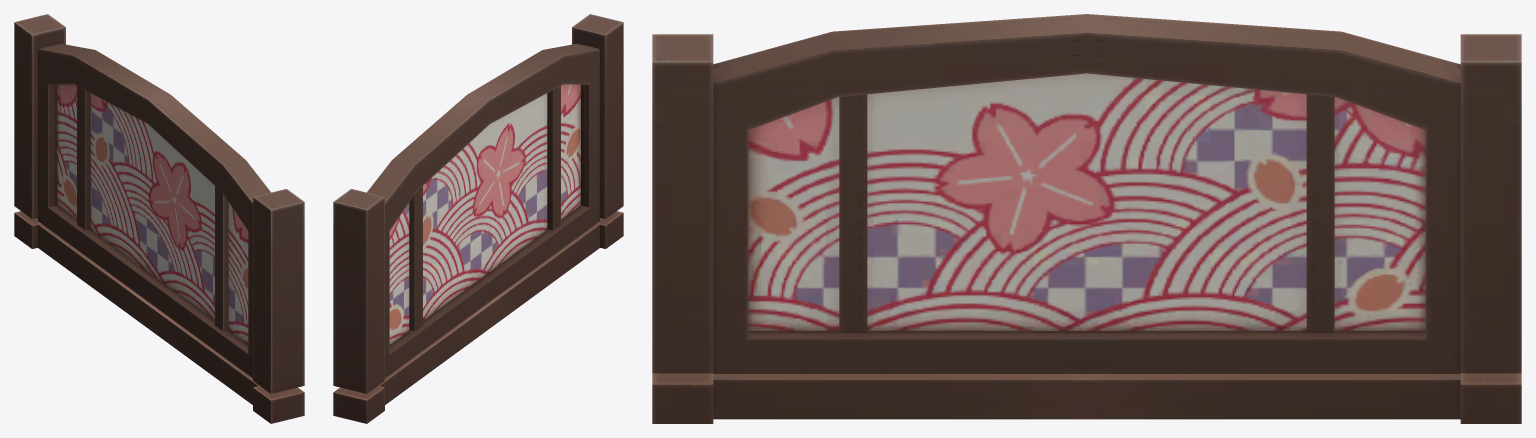
The model's file is my_hyakkiyako_01_partition_01.glb.
3 views of the same model, side by side, from view 1: azimuth 30°, elevation 25°; view 2: azimuth 150°, elevation 25°; view 3: azimuth 270°, elevation 25° (orthographic). The views are drawn at different scales.
Parts seen in each view (by area): view 1: my_hyakkiyako_01_partition_01; view 2: my_hyakkiyako_01_partition_01; view 3: my_hyakkiyako_01_partition_01.
Boxes of the visible parts, x1=… form: my_hyakkiyako_01_partition_01: x1=14, y1=14, x2=304, y2=423; my_hyakkiyako_01_partition_01: x1=333, y1=14, x2=623, y2=423; my_hyakkiyako_01_partition_01: x1=652, y1=14, x2=1521, y2=423.
Size of the model in its own units: 0.000802 by 0.00518 by 0.0106.
Materials: 1 (1 with a texture image).
